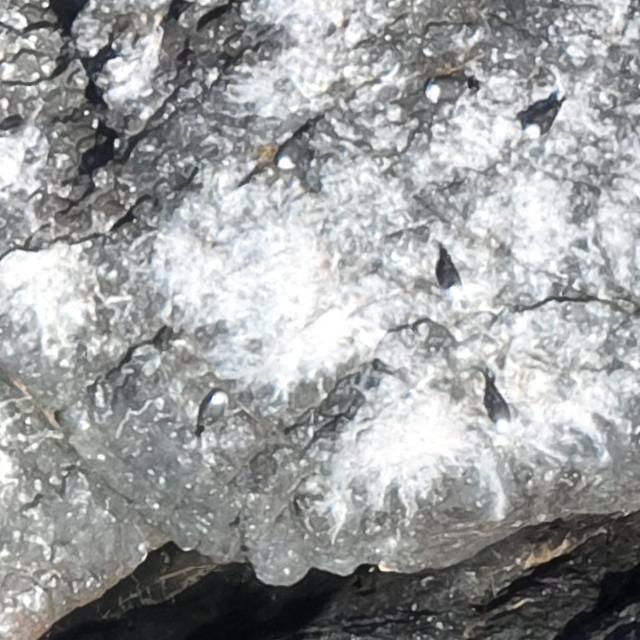umineko: (527, 108, 557, 136), (439, 257, 460, 293), (427, 80, 462, 100), (203, 393, 224, 425), (277, 139, 298, 170), (492, 396, 510, 430)
